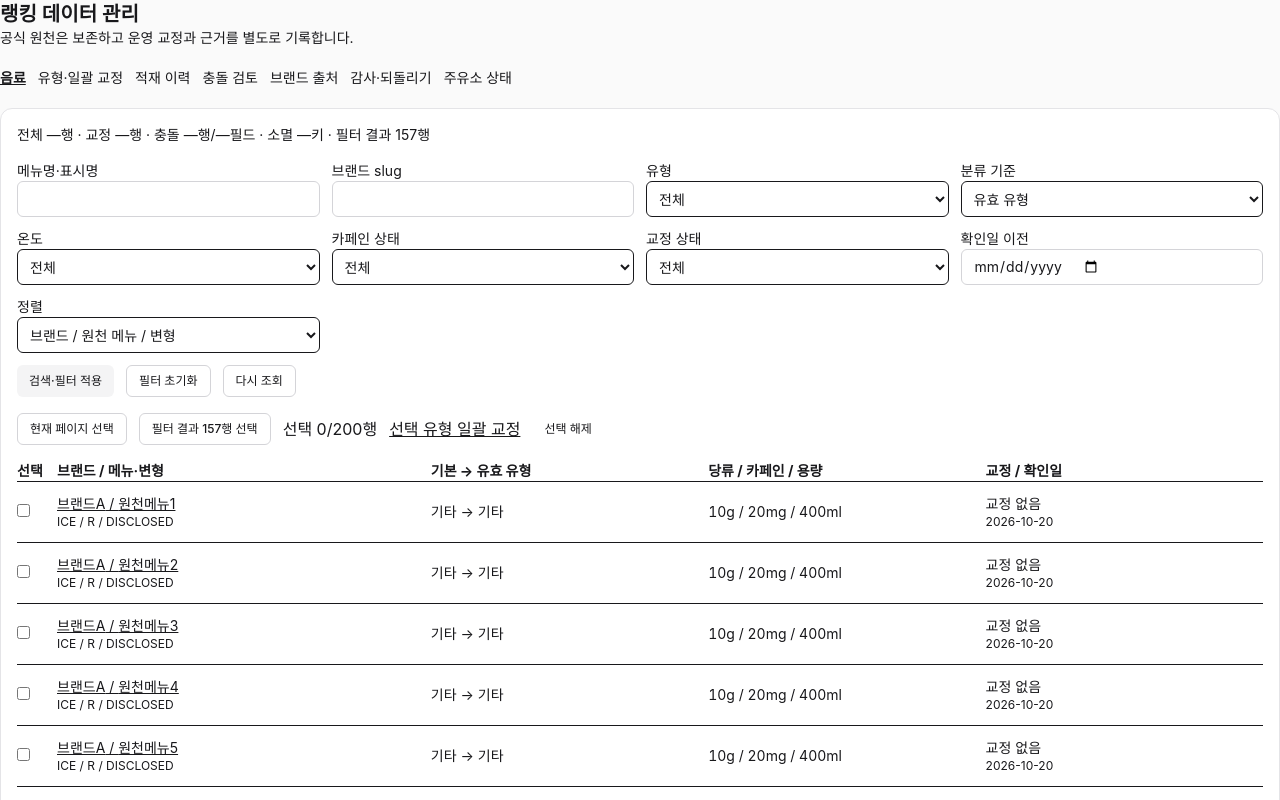
Test: round 1 reviewed UI contracts › F12 bulk preview renders server per-target outcomes and locks apply when any target is blocked
expect the link "브랜드A / 원천메뉴1" is shown: met, box [57,495,176,512]
Click the checkbox named "브랜드A 원천메뉴1 선택" at [24, 510], box [17,504,30,517]
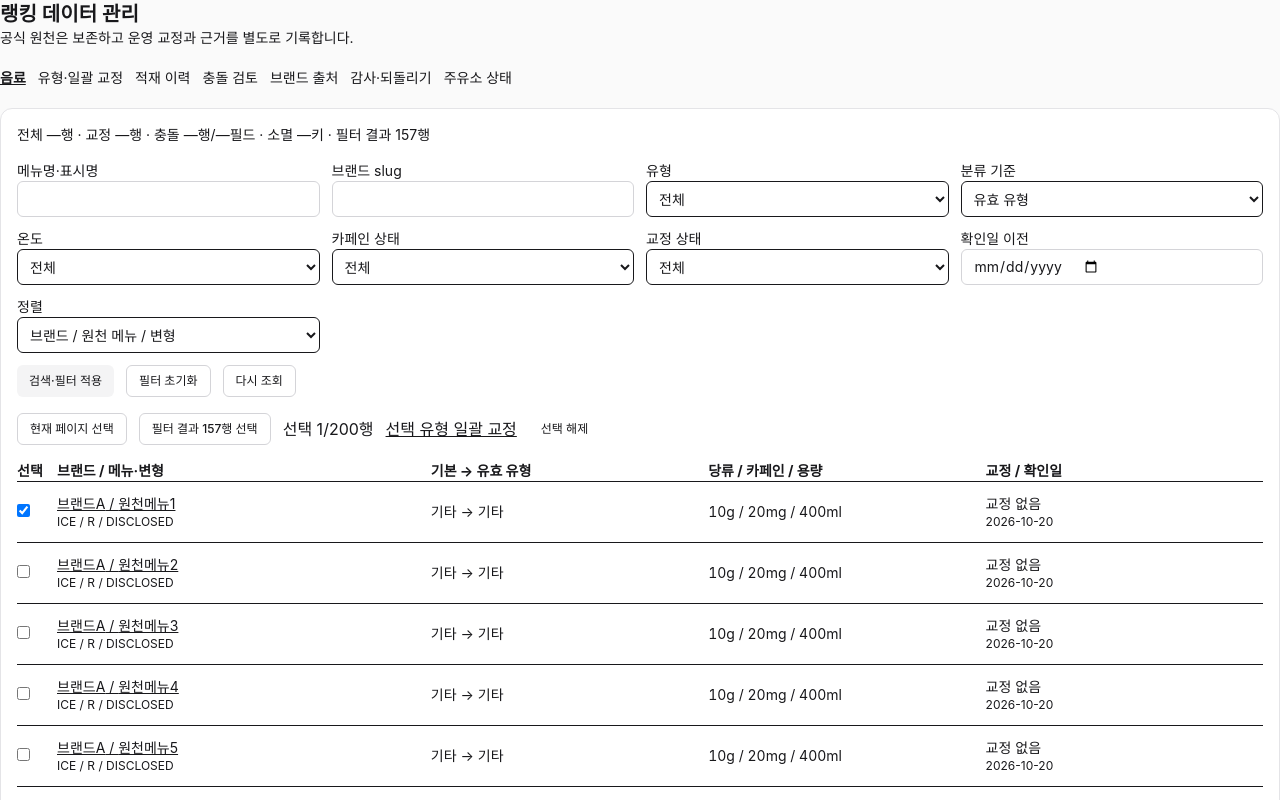
Click the checkbox named "브랜드A 원천메뉴2 선택" at [24, 572], box [17,565,30,578]
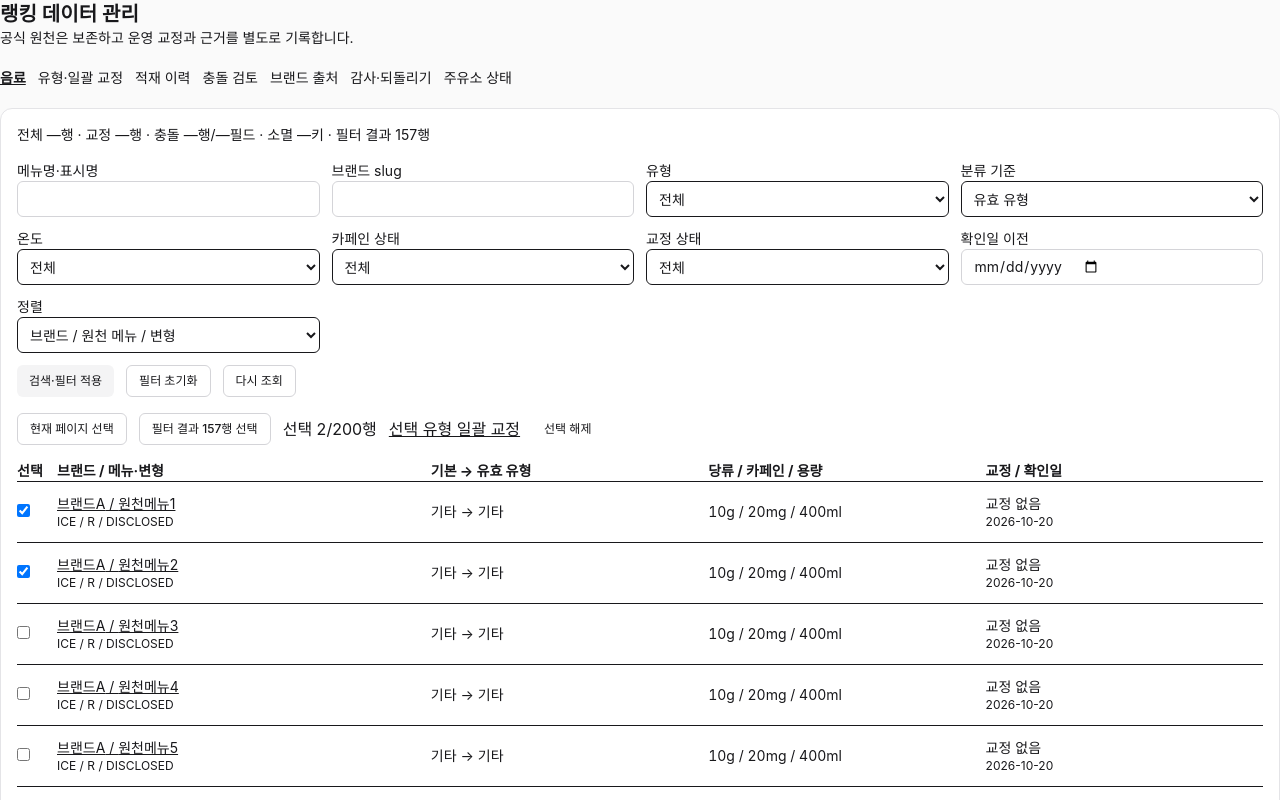
Click the link "선택 유형 일괄 교정" at [454, 429], box [389,417,520,441]
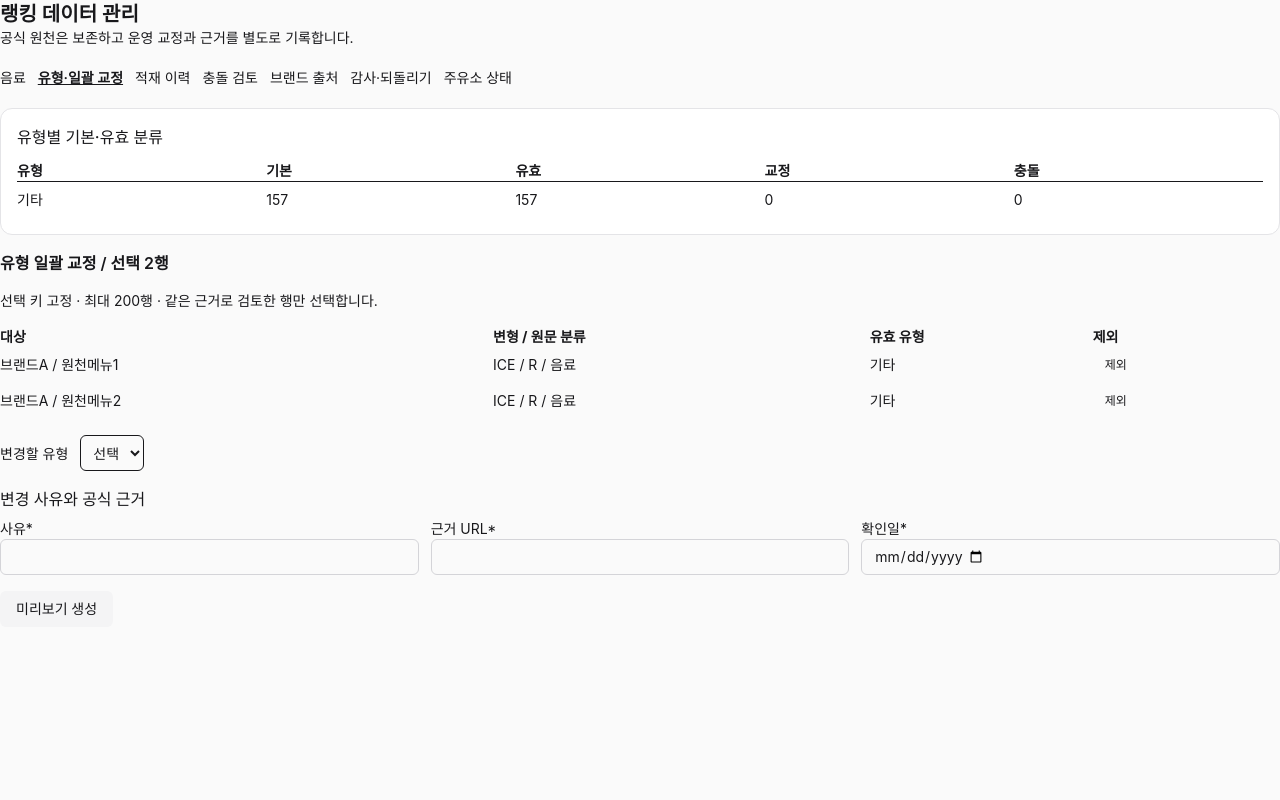
expect the heading "유형 일괄 교정 / 선택 2행" is shown: met, box [0,253,169,273]
Select "티" in the dropdown labelled "변경할 유형" at [112, 453], box [80,435,144,471]
Type "공식 대조" into the field labelled "사유*" at [209, 557], box [0,539,419,575]
Type "https://official.example/menu" into the field labelled "근거 URL*" at [640, 557], box [431,539,849,575]
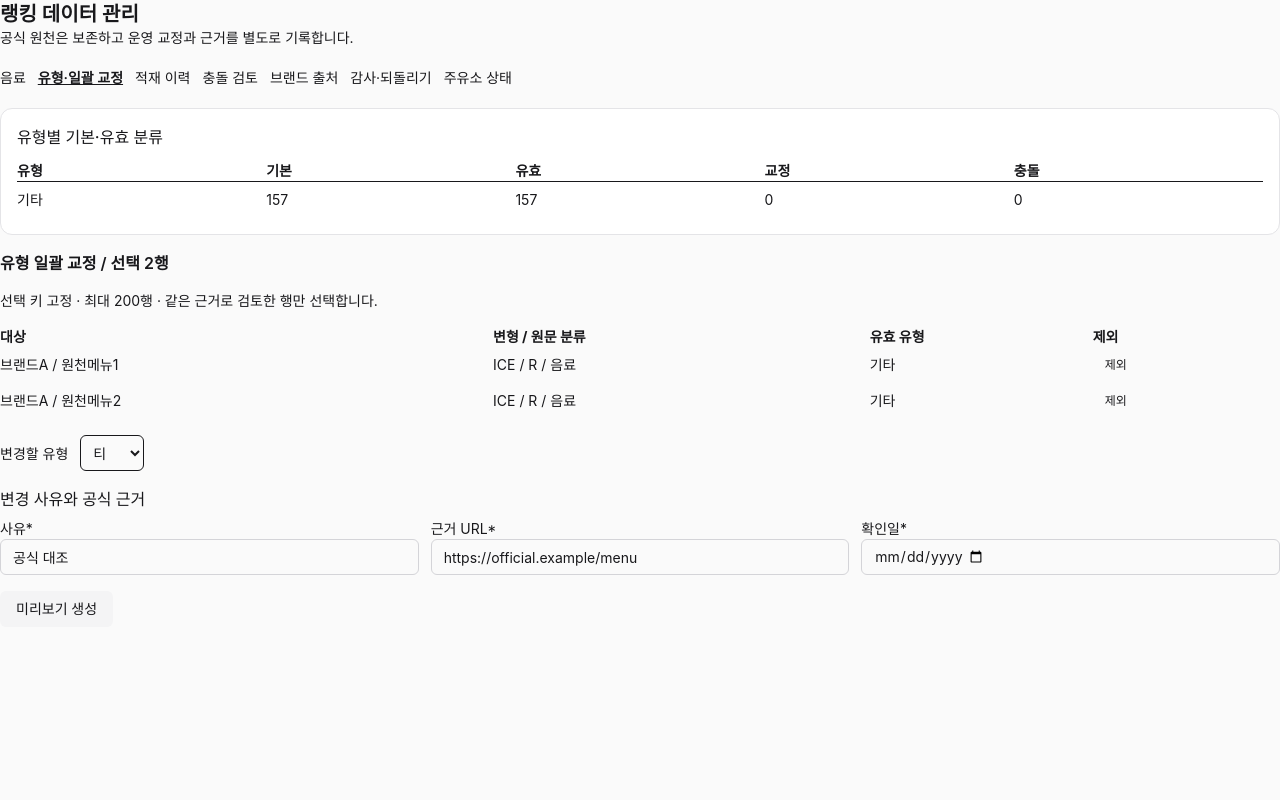
Type "2026-10-20" into the date field labelled "확인일*" at [1071, 557], box [861,539,1279,575]
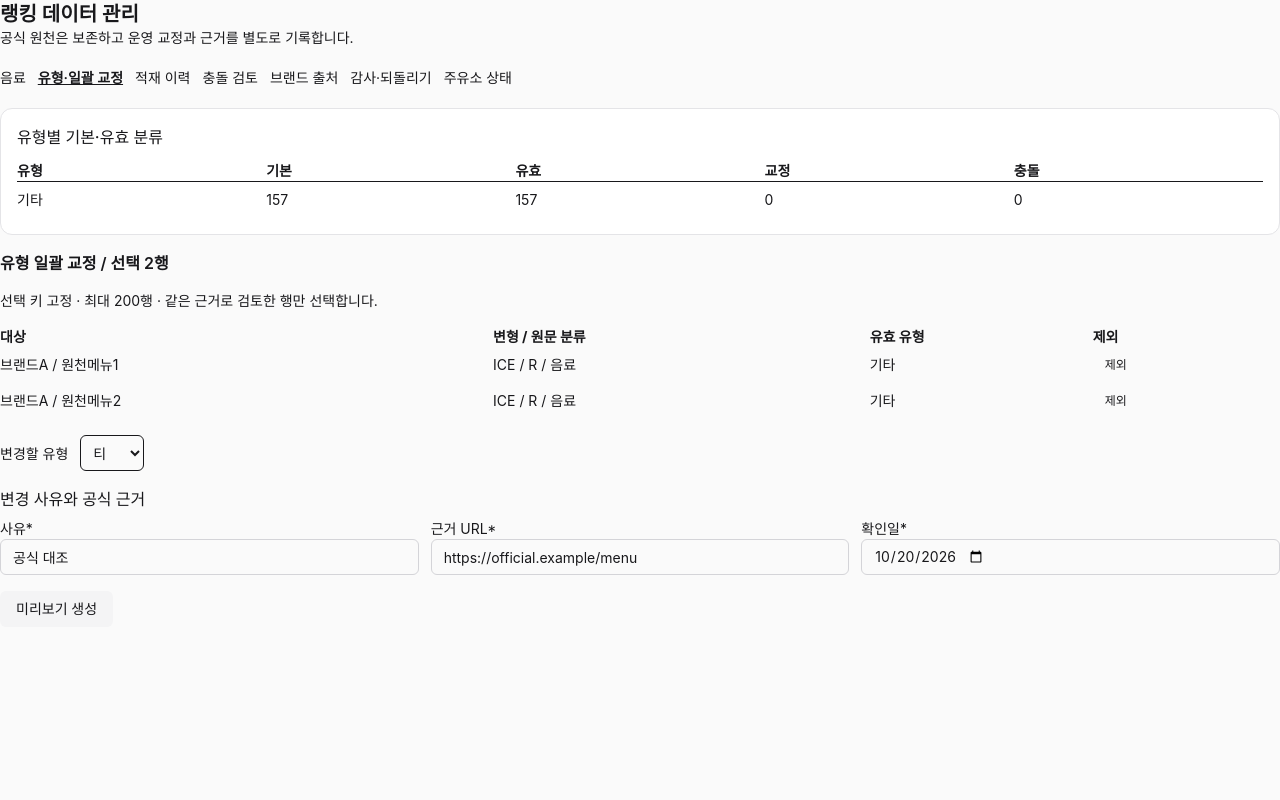
Click the button "미리보기 생성" at [56, 609], box [0,591,113,627]
(page scrolled)
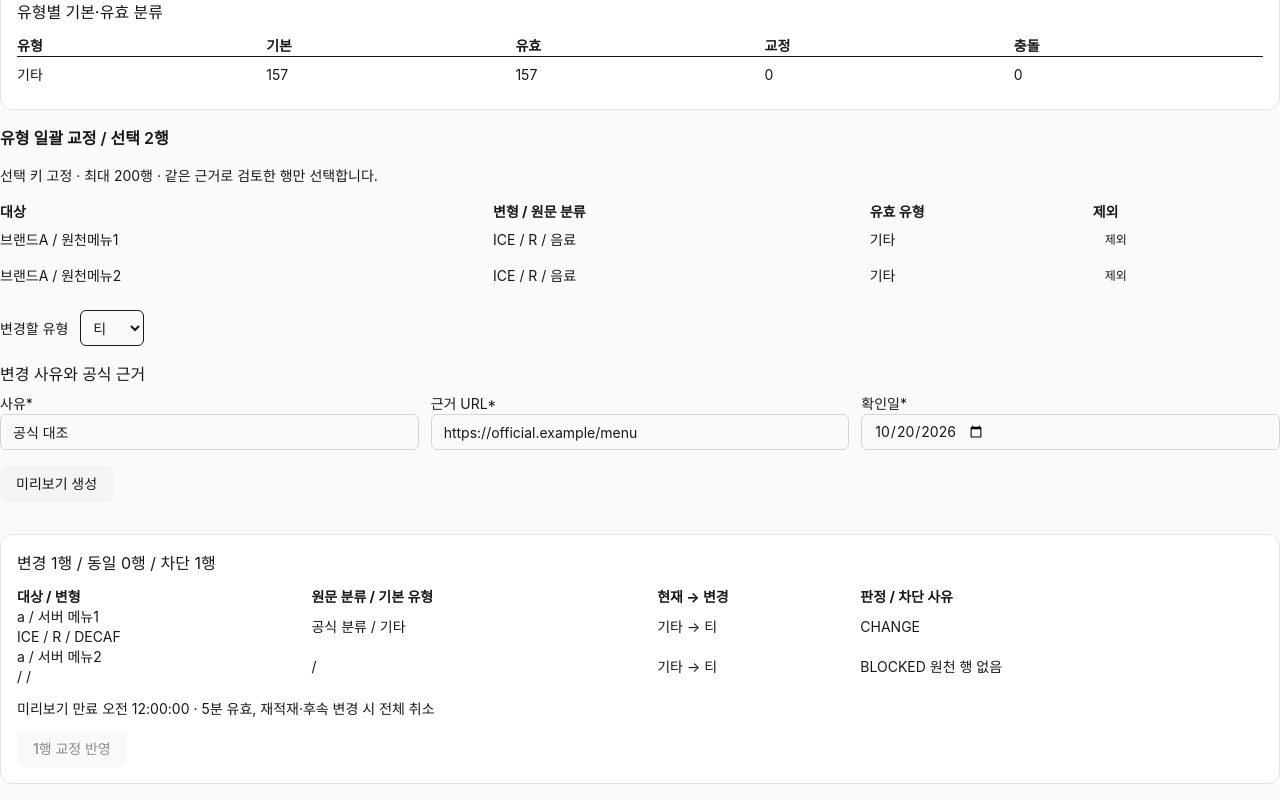
expect the text "a / 서버 메뉴1" is shown: met, box [17,607,311,647]
expect the text "BLOCKED 원천 행 없음" is shown: met, box [860,647,1263,687]
expect the text "공식 분류 / 기타" is shown: met, box [311,607,657,647]
